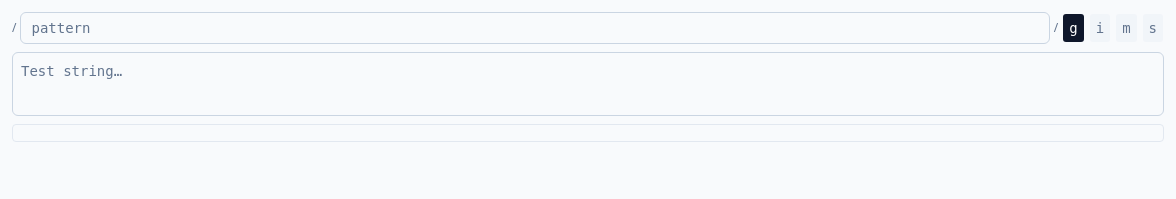
Scenario: RegexTesterWidget › only reports the first match once the g flag is turned off
Click the field with placeholder "pattern" at (535, 28), box [20,12,1050,44]
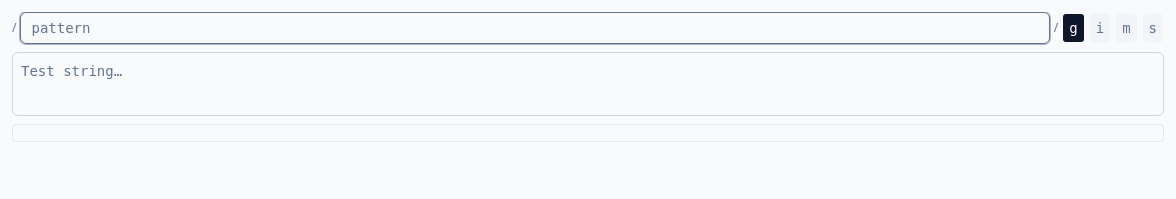
Type keys "cat"
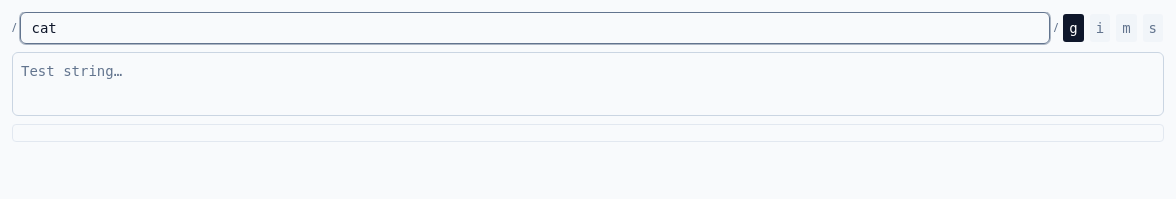
Click the text box with placeholder "Test string…" at (588, 84), box [12,52,1164,116]
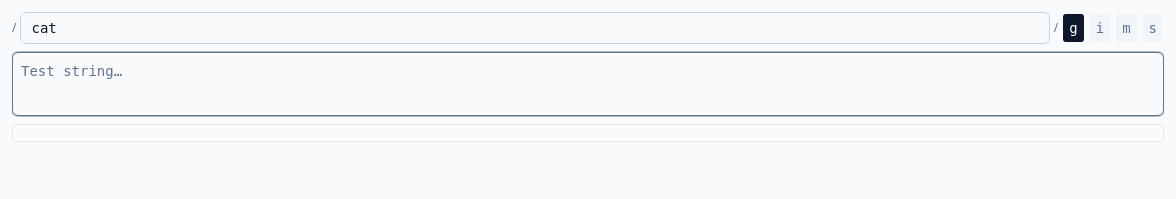
Type keys "cat dog cat"
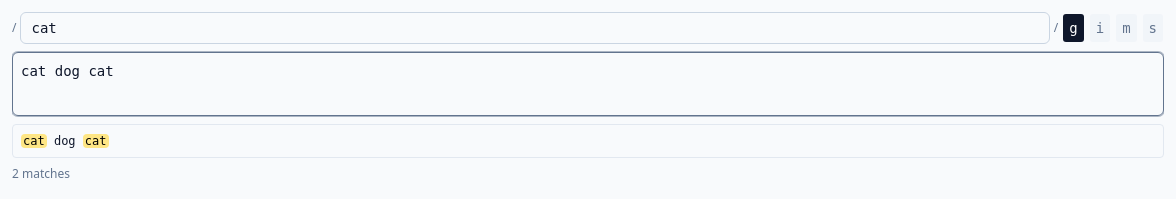
Click the button "g" at (1074, 28), box [1062,13,1085,43]
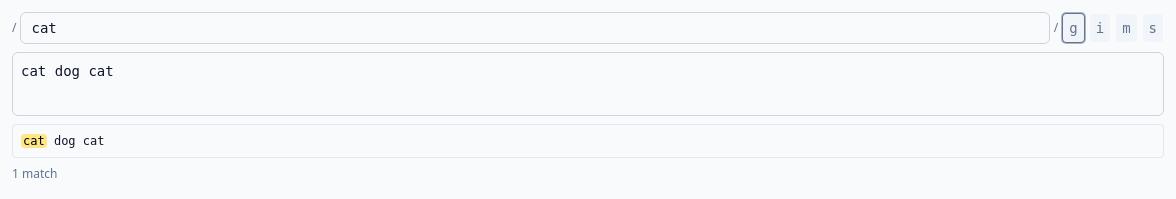
Check: the text "cat" is shown once, box [21,134,47,148]
Check: the text "1 match" is shown, box [12,165,58,182]
